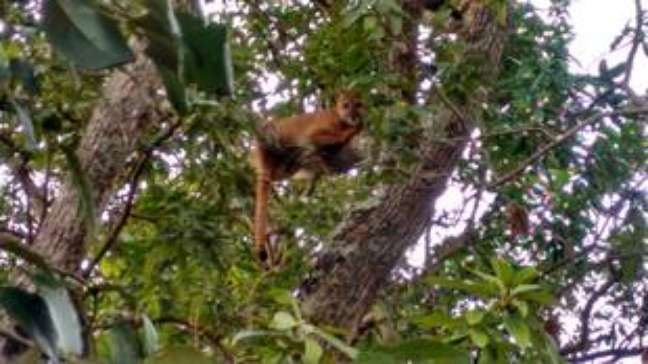OncaParda: (238, 85, 369, 259)
